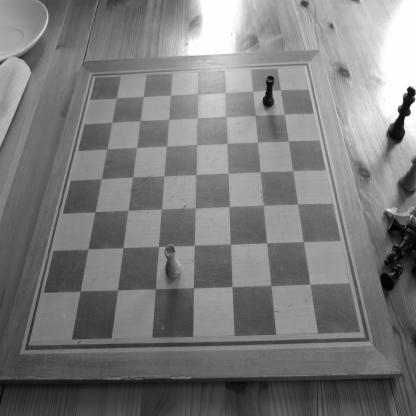black-bishop: (384, 228, 415, 268)
black-king: (387, 85, 415, 141)
black-pawn: (380, 263, 403, 291)
black-rook: (262, 75, 275, 108)
white-knight: (382, 206, 415, 234)
white-rook: (164, 244, 182, 279)
